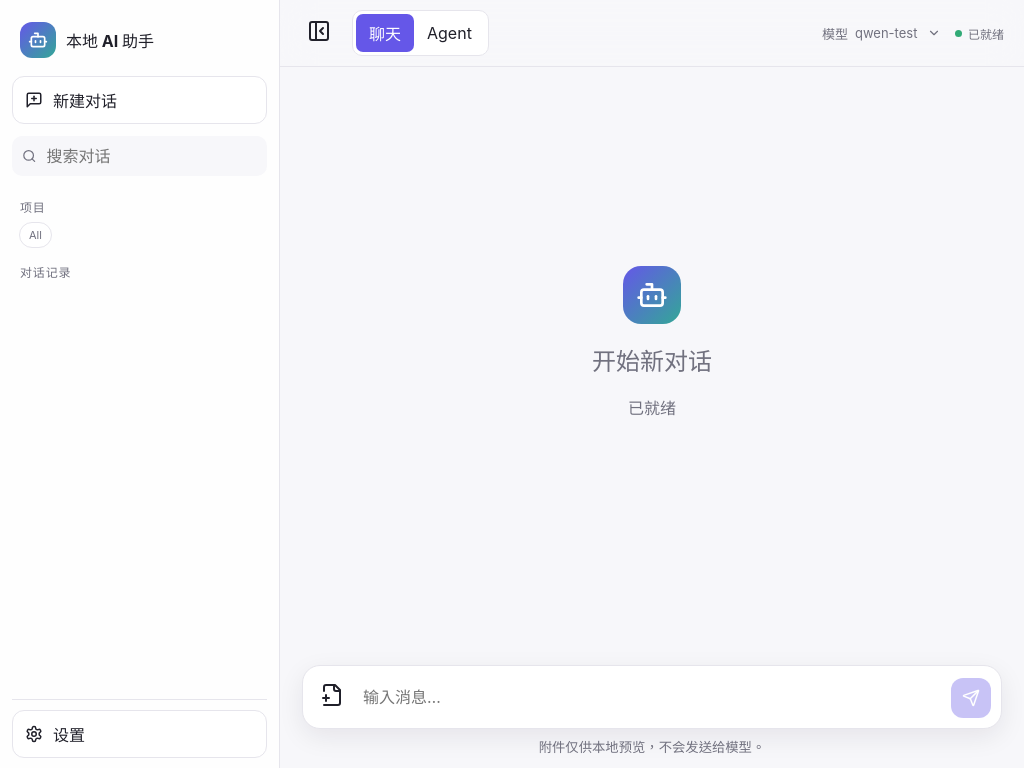
Test: modern desktop › shows the build version and service and execution boundaries in zh-CN
Click the button "设置" at (140,734), box [12,710,267,758]
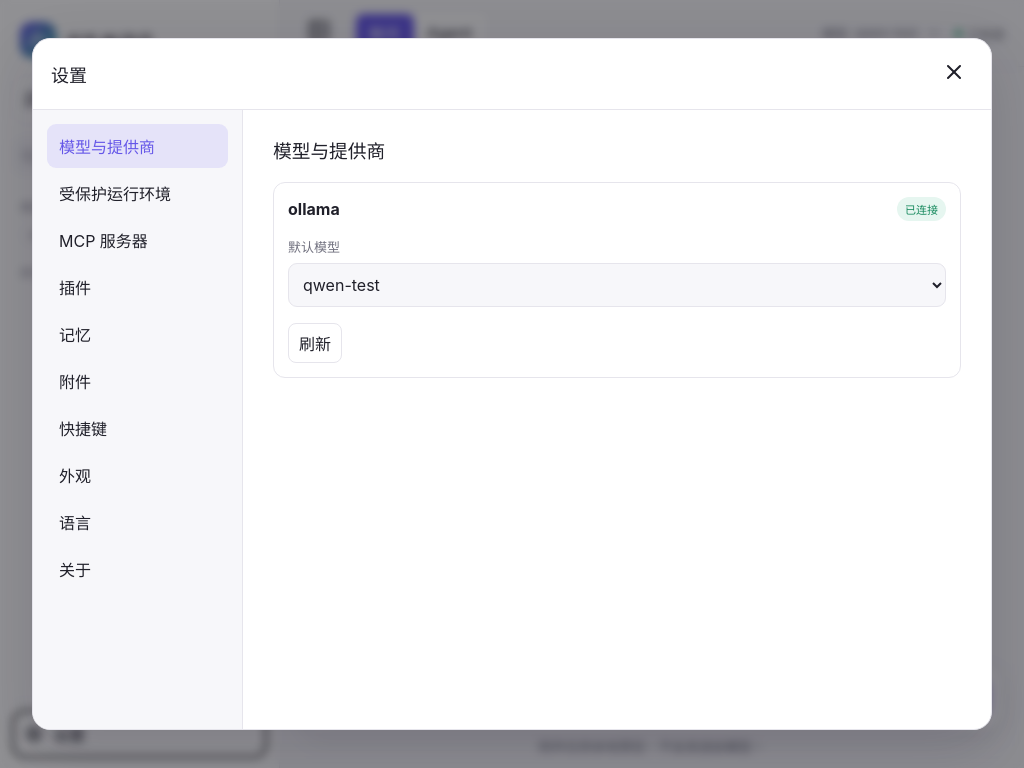
Click the button "关于" at (138,569), box [47,547,228,591]
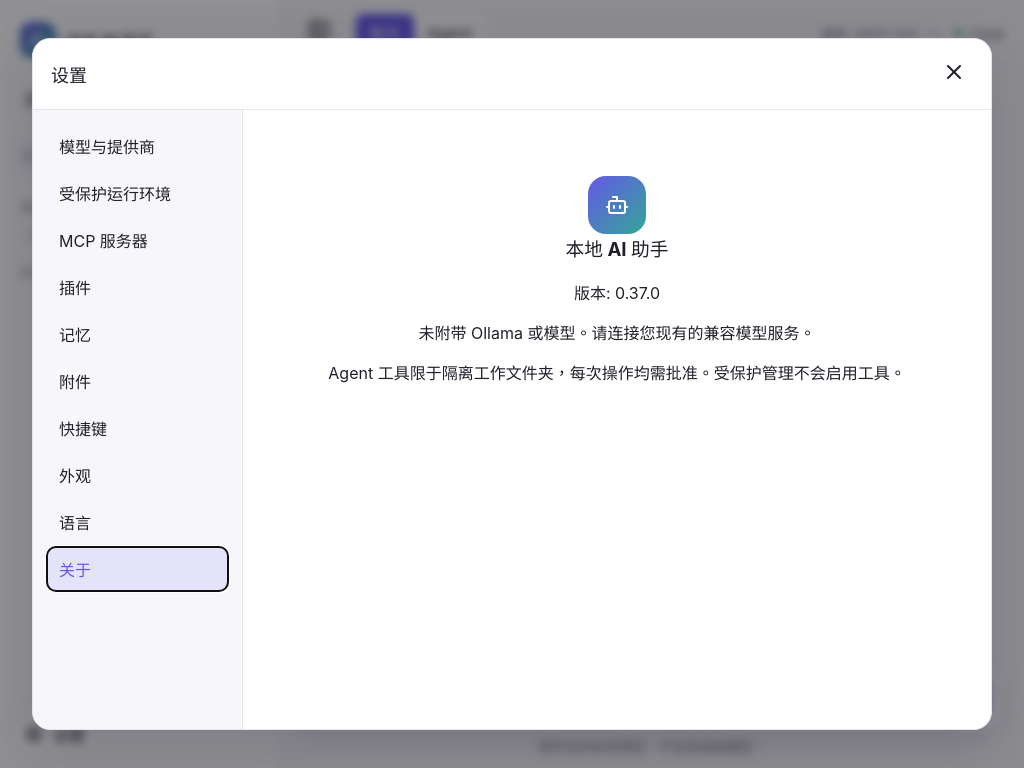
Expected: the text "未附带 Ollama 或模型。请连接您现有的兼容模型服务。" is shown, [418,323,816,343]
Expected: the text "Agent 工具限于隔离工作文件夹，每次操作均需批准。受保护管理不会启用工具。" is shown, [313,360,921,384]
